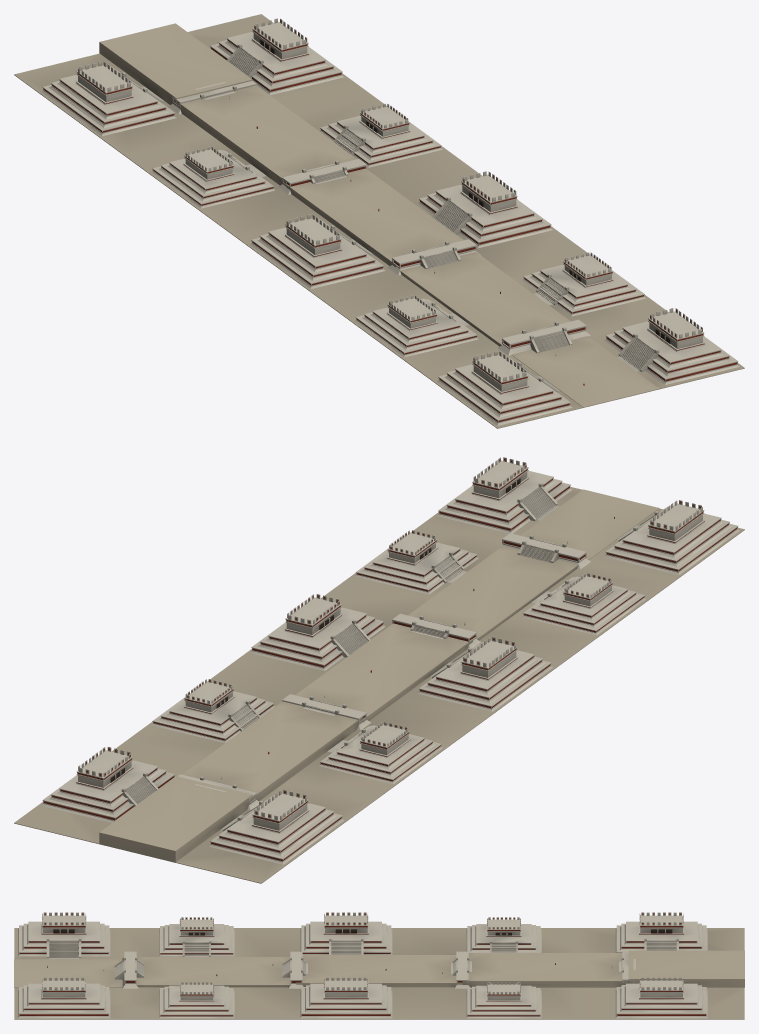
The model's file is avenue-of-the-dead.glb.
3 views of the same model, one above another, from view 1: azimuth 30°, elevation 25°; view 2: azimuth 150°, elevation 25°; view 3: azimuth 270°, elevation 25° (orthographic). The views are drawn at different scales.
Visible parts, largest first — view 1: p0_avenue, p1_walls, p2_people; view 2: p0_avenue, p1_walls, p2_people; view 3: p0_avenue, p1_walls, p2_people.
Boxes of the visible parts, x1,y1,x2,y2 form: p0_avenue: (14,14,744,428); p1_walls: (41,18,739,425); p2_people: (151,96,645,385); p0_avenue: (14,487,744,883); p1_walls: (41,457,739,864); p2_people: (151,517,645,784); p0_avenue: (14,928,744,1019); p1_walls: (18,912,707,1018); p2_people: (47,917,612,1018).
Bounding box in the file's own units: 130 × 16.02 × 440.
